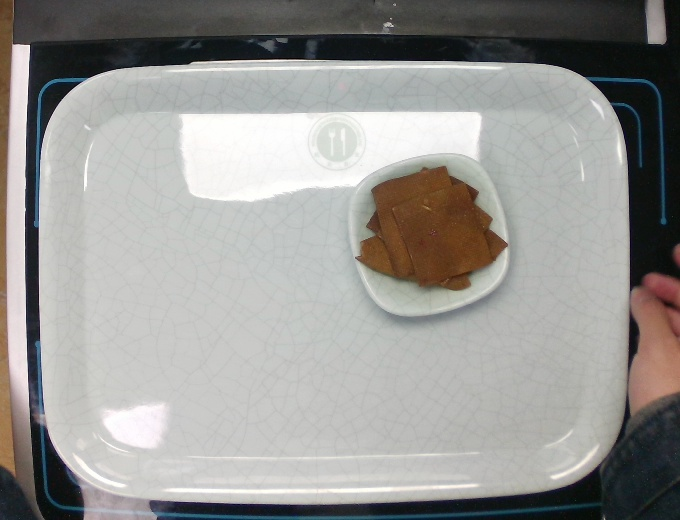JYsf-Si_Fang_Die: (345, 147, 514, 320)
